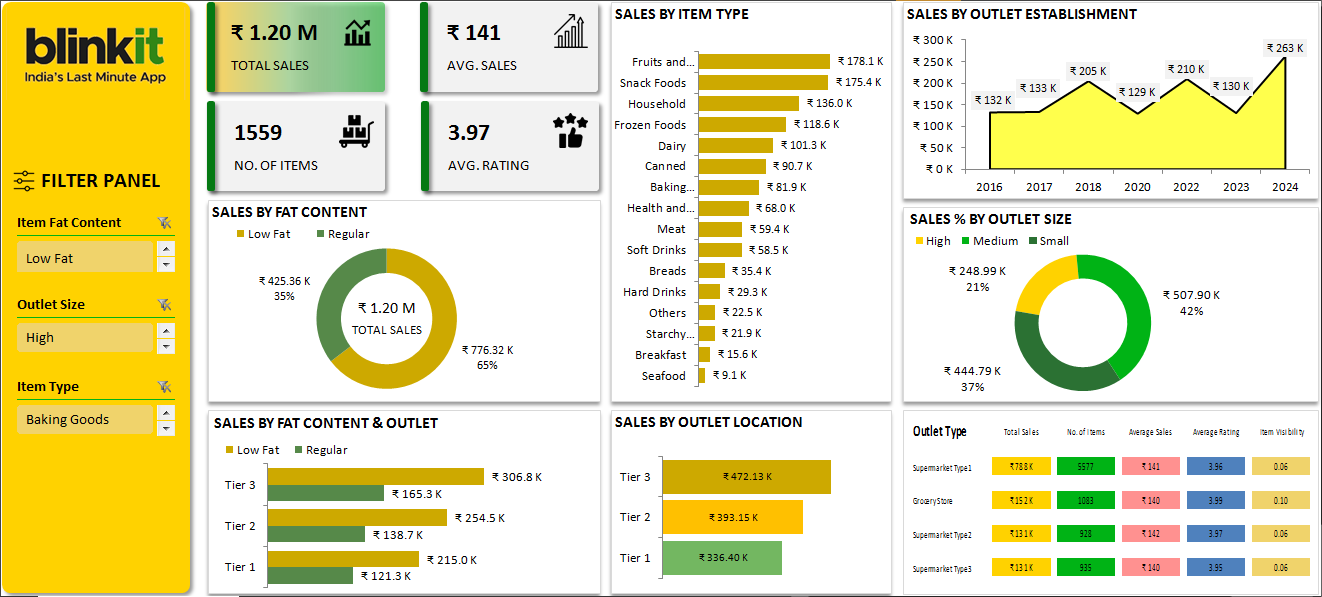

The page's visual inventory and layout, read from the dashboard file:
{"tool":"powerbi","page":{"name":"Blinkit Grocery - India's Last Minute App","canvas":[3300,1800],"ordinal":0},"visuals":[{"type":"image","box":[0,11.9,437.4,278.4],"z":0},{"type":"image","box":[826.1,288.6,119.3,135.2],"z":0,"group":"g1"},{"type":"image","box":[1345.9,298.5,119.3,119.3],"z":0,"group":"g2"},{"type":"image","box":[822.9,-11.6,127.2,167],"z":1000,"group":"g4"},{"type":"group","id":"g1","title":"Group 1","box":[500,288.6,445.4,235.3],"z":1000},{"type":"card","fields":{"Values":["Blinkit Grocery - India's Last Minute App.NO. OF ITEMS"]},"box":[500,293.4,306.4,230.5],"z":1000,"group":"g1"},{"type":"card","fields":{"Values":["Blinkit Grocery - India's Last Minute App.AVERAGE RATING"]},"box":[1017.4,297.8,306.2,214.7],"z":1000,"group":"g2"},{"type":"image","box":[1368,24.3,107.4,115.3],"z":2000,"group":"g3"},{"type":"group","id":"g2","title":"Group 2","box":[1017.4,297.8,447.8,214.7],"z":2000},{"type":"card","fields":{"Values":["Blinkit Grocery - India's Last Minute App.TOTAL SALES"]},"box":[501,19.9,306.2,214.7],"z":3000,"group":"g4"},{"type":"group","id":"g3","title":"Group 3","box":[1018,19.9,457.3,214.7],"z":3000},{"type":"card","fields":{"Values":["Blinkit Grocery - India's Last Minute App.AVG. SALES"]},"box":[1018,19.9,306.2,214.7],"z":4000,"group":"g3"},{"type":"card","fields":{"Values":["Blinkit Grocery - India's Last Minute App.TOTAL SALES"]},"box":[858.9,787.4,226.7,159.1],"z":4000},{"type":"group","id":"g4","title":"Group 4","box":[501,-11.6,449.2,246.3],"z":5000},{"type":"clusteredBarChart","title":"SALES BY ITEM TYPE","fields":{"Y":["Blinkit Grocery - India's Last Minute App.TOTAL SALES"],"Category":["Blinkit Grocery - India's Last Minute App.Item Type"]},"box":[1515.1,11.9,711.8,1065.7],"z":6000},{"type":"donutChart","title":"SALES % BY OUTLET SIZE","fields":{"Category":["Blinkit Grocery - India's Last Minute App.Outlet Size"],"Y":["Blinkit Grocery - India's Last Minute App.TOTAL SALES"]},"box":[2262.6,560.7,1037.9,516.9],"z":7000},{"type":"clusteredBarChart","title":"SALES BY OUTLET LOCATION","fields":{"Y":["Blinkit Grocery - India's Last Minute App.TOTAL SALES"],"Category":["Blinkit Grocery - India's Last Minute App.Outlet Location Type"]},"box":[1443.5,1105.5,870.9,672],"z":8000},{"type":"clusteredBarChart","title":"SALES BY FAT CONTENT & OUTLET LOCATION","fields":{"Y":["Blinkit Grocery - India's Last Minute App.TOTAL SALES"],"Category":["Blinkit Grocery - India's Last Minute App.Outlet Location Type"],"Series":["Blinkit Grocery - India's Last Minute App.Item Fat Content"]},"box":[477.2,1105.5,926.5,672],"z":9000},{"type":"donutChart","title":"SALES BY FAT CONTENT","fields":{"Y":["Blinkit Grocery - India's Last Minute App.TOTAL SALES"],"Category":["Blinkit Grocery - India's Last Minute App.Item Fat Content"]},"box":[473.2,560.7,1002.1,516.9],"z":10000},{"type":"areaChart","title":"SALES BY OUTLET ESTABLISHMENT","fields":{"Category":["Blinkit Grocery - India's Last Minute App.Outlet Establishment Year"],"Y":["Blinkit Grocery - India's Last Minute App.TOTAL SALES"]},"box":[2259,10.8,1025.3,513.3],"z":11000},{"type":"pivotTable","fields":{"Rows":["Blinkit Grocery - India's Last Minute App.Outlet Type","Blinkit Grocery - India's Last Minute App.Item Fat Content"],"Values":["Blinkit Grocery - India's Last Minute App.TOTAL SALES","Blinkit Grocery - India's Last Minute App.NO. OF ITEMS","Blinkit Grocery - India's Last Minute App.AVG. SALES","Blinkit Grocery - India's Last Minute App.AVERAGE RATING","Avg(Blinkit Grocery - India's Last Minute App.Item Visibility)"]},"box":[2338.2,1105.5,946.4,672],"z":12000},{"type":"advancedSlicerVisual","fields":{"Values":["Blinkit Grocery - India's Last Minute App.Item Fat Content"]},"box":[31.8,783.4,385.7,234.6],"z":12001},{"type":"advancedSlicerVisual","fields":{"Values":["Blinkit Grocery - India's Last Minute App.Outlet Size"]},"box":[31.8,1081.6,385.7,234.6],"z":12002},{"type":"advancedSlicerVisual","fields":{"Values":["Blinkit Grocery - India's Last Minute App.Item Type"]},"box":[27.8,1379.9,385.7,234.6],"z":12003},{"type":"image","box":[31.8,544.8,385.7,163],"z":12004}]}

Visuals, with their boxes on the page's 3300x1800 design canvas (x1, y1, x2, y2). These are canvas units, not pixel positions in the 1322x597 screenshot, which may show the page scaled, cropped or inside an application window:
image: BBox(0, 12, 437, 290)
image: BBox(826, 289, 945, 424)
image: BBox(1346, 298, 1465, 418)
image: BBox(823, -12, 950, 155)
"Group 1" group: BBox(500, 289, 945, 524)
card - Blinkit Grocery - India's Last Minute App.NO. OF ITEMS: BBox(500, 293, 806, 524)
card - Blinkit Grocery - India's Last Minute App.AVERAGE RATING: BBox(1017, 298, 1324, 512)
image: BBox(1368, 24, 1475, 140)
"Group 2" group: BBox(1017, 298, 1465, 512)
card - Blinkit Grocery - India's Last Minute App.TOTAL SALES: BBox(501, 20, 807, 235)
"Group 3" group: BBox(1018, 20, 1475, 235)
card - Blinkit Grocery - India's Last Minute App.AVG. SALES: BBox(1018, 20, 1324, 235)
card - Blinkit Grocery - India's Last Minute App.TOTAL SALES: BBox(859, 787, 1086, 946)
"Group 4" group: BBox(501, -12, 950, 235)
"SALES BY ITEM TYPE" clusteredBarChart: BBox(1515, 12, 2227, 1078)
"SALES % BY OUTLET SIZE" donutChart: BBox(2263, 561, 3300, 1078)
"SALES BY OUTLET LOCATION" clusteredBarChart: BBox(1444, 1106, 2314, 1778)
"SALES BY FAT CONTENT & OUTLET LOCATION" clusteredBarChart: BBox(477, 1106, 1404, 1778)
"SALES BY FAT CONTENT" donutChart: BBox(473, 561, 1475, 1078)
"SALES BY OUTLET ESTABLISHMENT" areaChart: BBox(2259, 11, 3284, 524)
pivotTable - Blinkit Grocery - India's Last Minute App.Outlet Type x Blinkit Grocery - India's Last Minute App.Item Fat Content: BBox(2338, 1106, 3285, 1778)
advancedSlicerVisual - Blinkit Grocery - India's Last Minute App.Item Fat Content: BBox(32, 783, 418, 1018)
advancedSlicerVisual - Blinkit Grocery - India's Last Minute App.Outlet Size: BBox(32, 1082, 418, 1316)
advancedSlicerVisual - Blinkit Grocery - India's Last Minute App.Item Type: BBox(28, 1380, 414, 1614)
image: BBox(32, 545, 418, 708)
